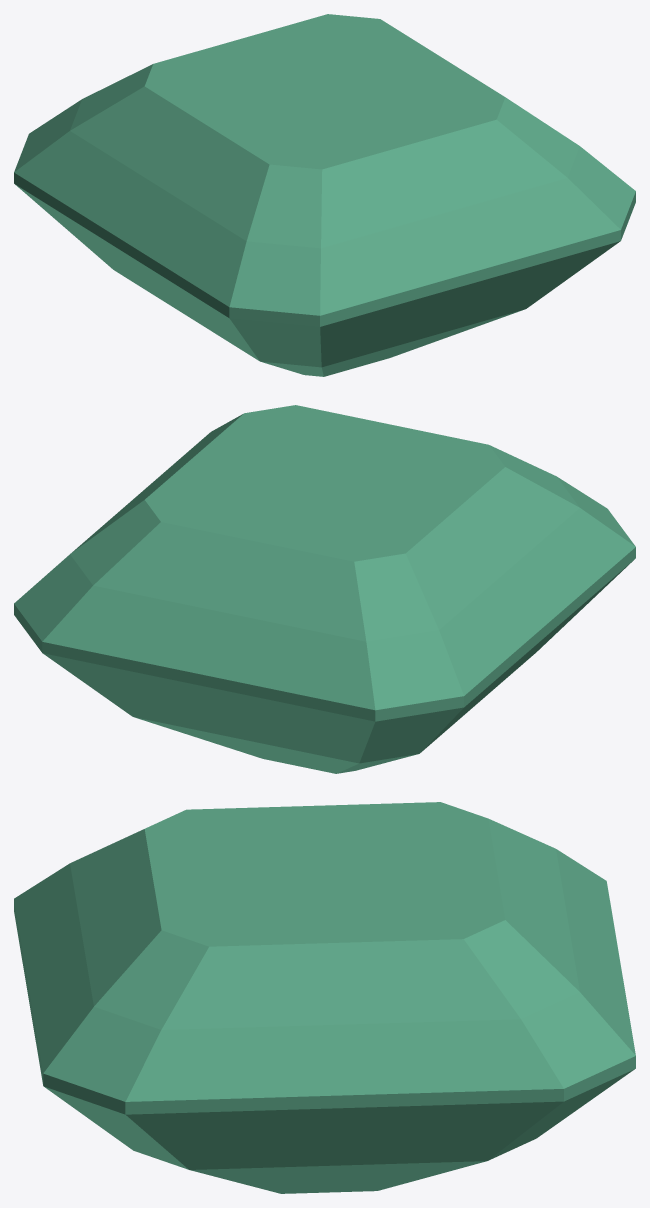
Rendered from stone-emerald.glb.
3 views of the same model, one above another, from view 1: azimuth 30°, elevation 25°; view 2: azimuth 150°, elevation 25°; view 3: azimuth 270°, elevation 25° (orthographic). The views are drawn at different scales.
Parts seen in each view (by area): view 1: Gemstone Emerald; view 2: Gemstone Emerald; view 3: Gemstone Emerald.
Part boxes in pixels (left/top/right/bottom): Gemstone Emerald: left=14, top=14, right=635, bottom=376; Gemstone Emerald: left=14, top=405, right=635, bottom=773; Gemstone Emerald: left=14, top=802, right=635, bottom=1193.
Size of the model in its own units: 2.11 by 1.15 by 2.22.
